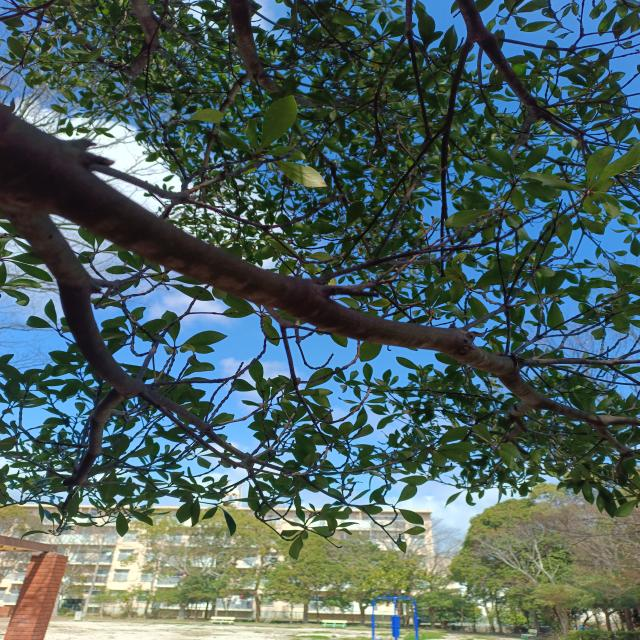Branch: (1, 108, 606, 426), (1, 191, 146, 487)
Twig: (142, 395, 310, 477), (144, 389, 292, 473), (504, 193, 584, 304), (316, 243, 486, 285), (193, 134, 304, 191), (509, 212, 578, 303), (323, 254, 419, 296), (210, 378, 292, 427), (100, 167, 197, 206), (184, 198, 273, 229), (541, 302, 605, 336), (302, 477, 370, 507), (307, 454, 393, 476), (533, 275, 556, 335), (207, 378, 236, 424), (544, 318, 609, 338), (464, 302, 512, 329), (593, 425, 633, 456), (460, 277, 502, 306), (205, 380, 229, 422), (519, 358, 621, 367), (496, 221, 507, 303), (513, 335, 543, 356), (307, 447, 329, 473), (609, 366, 640, 384), (504, 259, 516, 296), (603, 416, 640, 425), (620, 349, 640, 360), (620, 360, 640, 365)
